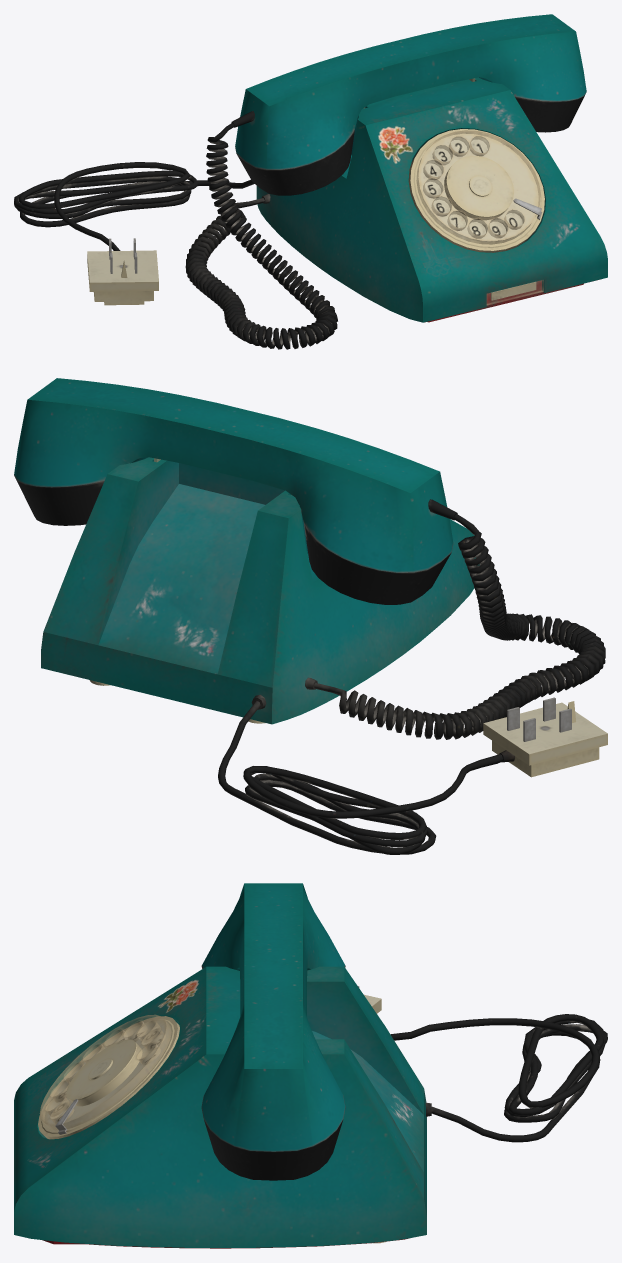
The model's file is old_soviet_telephone.glb.
3 views of the same model, one above another, from view 1: azimuth 30°, elevation 25°; view 2: azimuth 150°, elevation 25°; view 3: azimuth 270°, elevation 25° (orthographic). The views are drawn at different scales.
Parts seen in each view (by area): view 1: Phone_LowPoly; view 2: Phone_LowPoly; view 3: Phone_LowPoly.
Part boxes in pixels (<box>): Phone_LowPoly: <box>14,14,607,349</box>; Phone_LowPoly: <box>14,378,607,854</box>; Phone_LowPoly: <box>14,883,607,1248</box>.
Size of the model in its own units: 4.27 by 1.66 by 3.72.
Materials: 1 (1 with a texture image).
